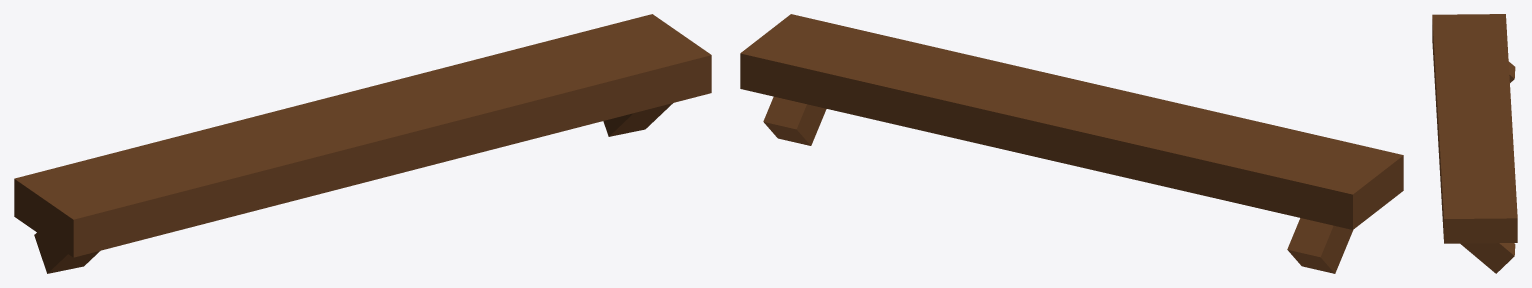
Rendered from Estanteria.fbx.
3 views of the same model, side by side, from view 1: azimuth 30°, elevation 25°; view 2: azimuth 150°, elevation 25°; view 3: azimuth 270°, elevation 25° (orthographic). The views are drawn at different scales.
Parts seen in each view (by area): view 1: Cube.009, Cube.010, Cube.011; view 2: Cube.009, Cube.010, Cube.011; view 3: Cube.009, Cube.011, Cube.010.
Boxes of the visible parts, bbox=[...] form: Cube.009: bbox=[14, 14, 711, 257]; Cube.010: bbox=[34, 232, 99, 273]; Cube.011: bbox=[603, 103, 672, 136]; Cube.009: bbox=[740, 14, 1403, 229]; Cube.010: bbox=[1287, 218, 1353, 273]; Cube.011: bbox=[763, 96, 826, 145]; Cube.009: bbox=[1432, 14, 1517, 243]; Cube.011: bbox=[1460, 243, 1515, 273]; Cube.010: bbox=[1508, 61, 1515, 82].
Bounding box in the file's own units: 1023 × 147 × 180.
